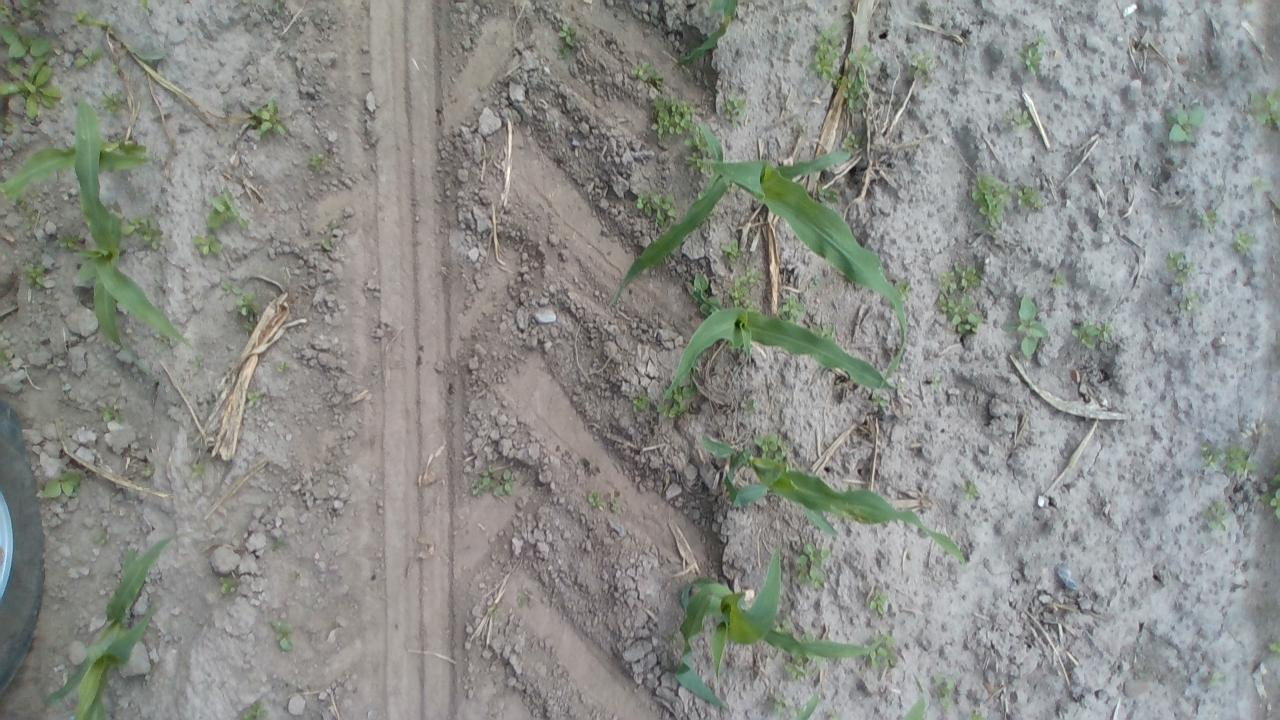Maize: (614, 122, 906, 392), (702, 434, 966, 566), (672, 549, 885, 711), (68, 96, 193, 350), (45, 535, 172, 720), (662, 306, 894, 402), (0, 137, 147, 200), (786, 680, 937, 720), (670, 0, 740, 74)
Weeds: (814, 30, 873, 112), (1, 54, 64, 120), (1002, 292, 1049, 360), (936, 294, 984, 334), (972, 175, 1010, 222), (1, 24, 48, 61), (652, 98, 692, 140), (206, 194, 248, 232), (468, 466, 514, 498), (637, 190, 677, 226), (684, 133, 714, 180), (250, 100, 288, 137), (941, 261, 983, 294), (1166, 106, 1204, 142), (1248, 89, 1280, 131), (796, 544, 826, 588), (731, 269, 760, 309), (691, 272, 718, 314), (122, 214, 164, 241), (630, 60, 664, 93), (1072, 318, 1108, 348), (44, 470, 82, 498), (865, 634, 897, 666), (1261, 472, 1280, 520), (1228, 445, 1254, 480), (233, 699, 274, 720), (239, 295, 262, 332), (1166, 248, 1194, 278), (1204, 501, 1230, 531), (1023, 40, 1046, 72), (906, 54, 933, 81), (669, 386, 691, 419), (1020, 188, 1046, 214), (192, 234, 224, 255), (273, 622, 295, 652), (557, 22, 579, 50), (73, 51, 105, 70), (1235, 228, 1259, 253), (723, 95, 747, 120), (754, 431, 780, 454), (779, 296, 805, 318), (789, 654, 823, 670), (96, 94, 125, 112), (26, 263, 48, 286), (720, 238, 742, 260), (218, 575, 240, 596), (1202, 206, 1220, 231), (1010, 108, 1032, 128), (14, 0, 36, 20), (815, 183, 839, 201), (840, 132, 863, 150), (869, 592, 886, 616), (934, 676, 952, 698), (961, 479, 980, 498), (1202, 445, 1217, 469), (1182, 290, 1200, 310), (100, 407, 120, 425), (66, 230, 86, 248), (270, 534, 288, 552), (586, 490, 604, 508), (632, 396, 652, 412), (222, 280, 240, 295), (1050, 271, 1064, 288), (192, 463, 207, 478), (310, 154, 324, 170), (245, 389, 263, 400), (1267, 640, 1280, 654), (968, 710, 984, 720), (278, 358, 289, 372), (801, 632, 816, 642)
